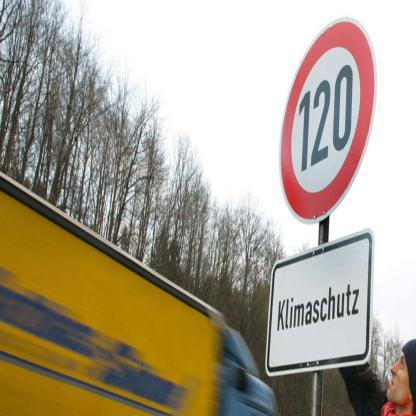Speed Limit 120: (283, 25, 367, 218)
